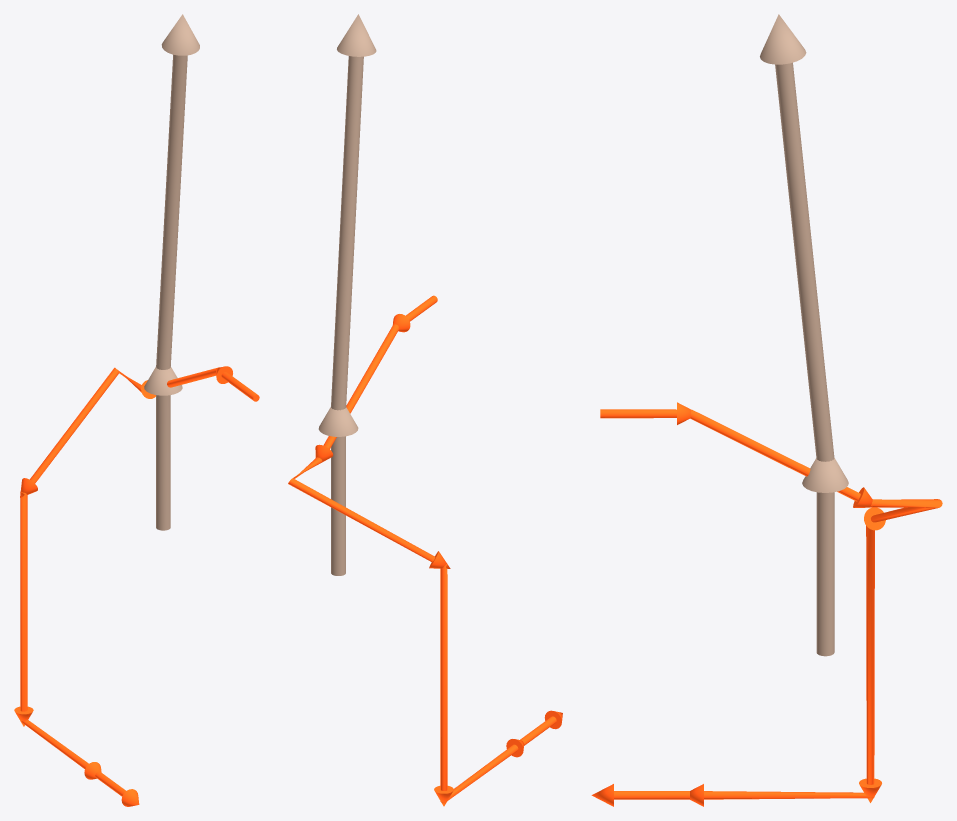
File: gas_fired_furnace_flow.glb
3 views of the same model, side by side, from view 1: azimuth 30°, elevation 25°; view 2: azimuth 150°, elevation 25°; view 3: azimuth 270°, elevation 25° (orthographic). The views are drawn at different scales.
Parts seen in each view (by area): view 1: flue_gas, process_fluid; view 2: flue_gas, process_fluid; view 3: flue_gas, process_fluid.
Part boxes in pixels (x1,y1,x2,y2): flue_gas: [144, 14, 199, 530]; process_fluid: [14, 366, 259, 806]; flue_gas: [318, 14, 376, 575]; process_fluid: [288, 295, 562, 806]; flue_gas: [760, 14, 848, 656]; process_fluid: [591, 402, 942, 806].
Size of the model in its own units: 0.906 by 4.23 by 1.56.
